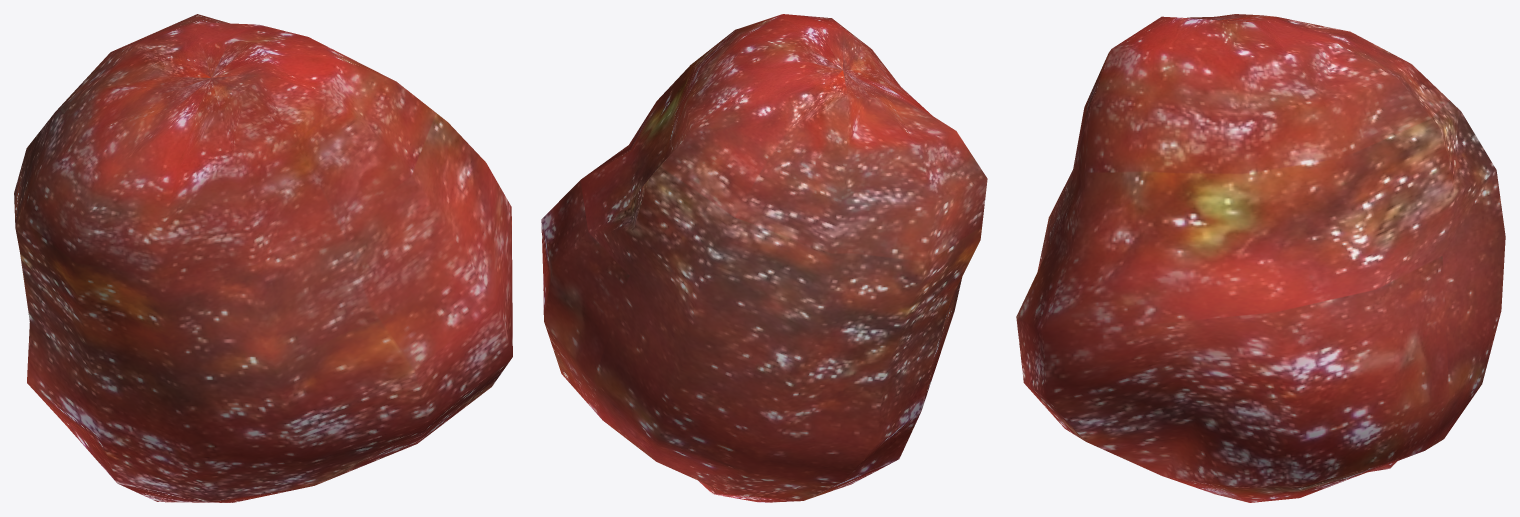
File: GoreChunk_Small.fbx
3 views of the same model, side by side, from view 1: azimuth 30°, elevation 25°; view 2: azimuth 150°, elevation 25°; view 3: azimuth 270°, elevation 25° (orthographic). The views are drawn at different scales.
Parts seen in each view (by area): view 1: GoreBot5; view 2: GoreBot5; view 3: GoreBot5.
Part boxes in pixels (x1,y1,x2,y2): GoreBot5: [14, 14, 512, 502]; GoreBot5: [541, 14, 987, 502]; GoreBot5: [1016, 14, 1505, 502].
Bounding box in the file's own units: 29.14 × 29.65 × 27.99.
1 material, 1 textured.
